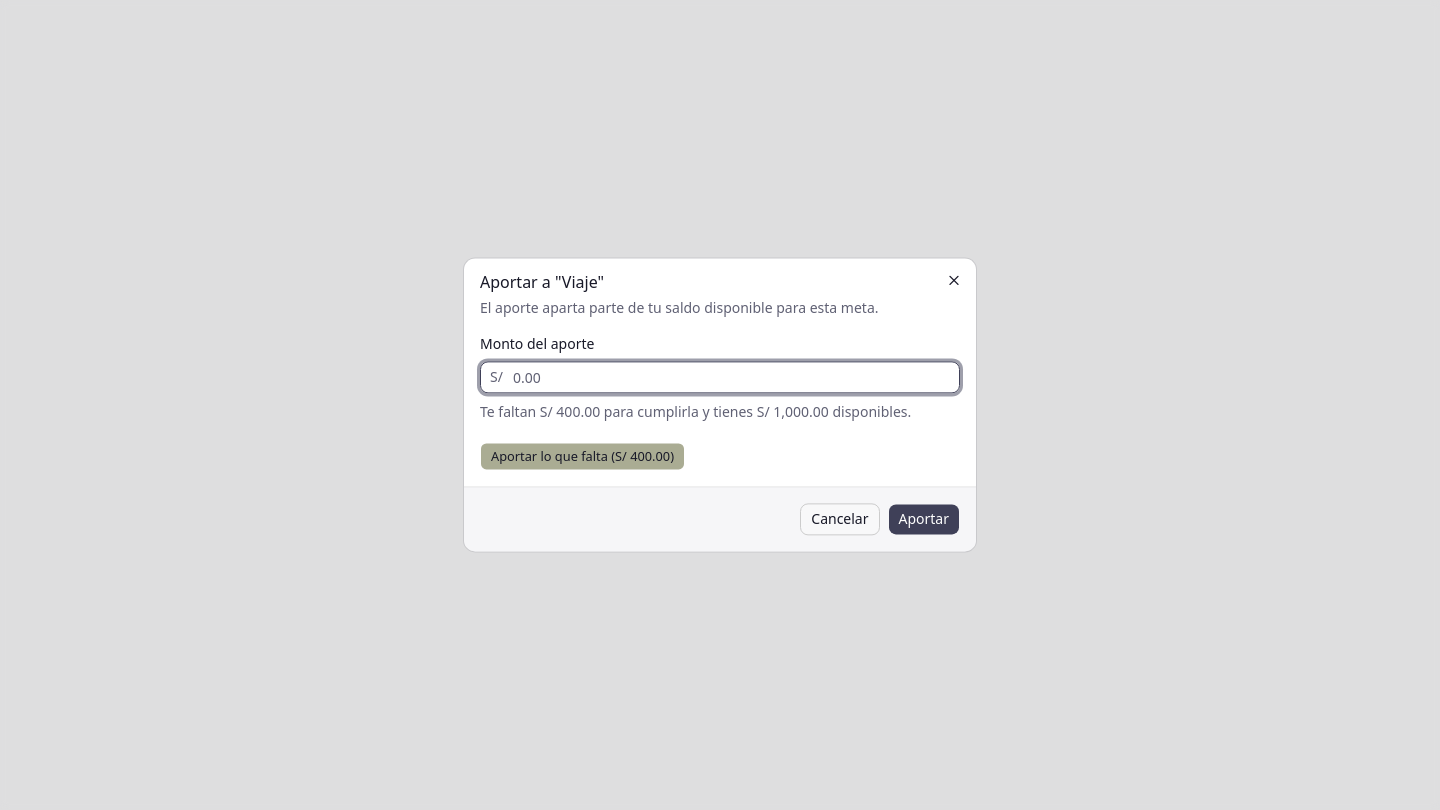
ContributionDialog › no deja aportar mas de lo que falta
The width and height of the screenshot is (1440, 810).
Expected: the text "disponibles" is shown, [829,403,908,422]
Type "500" into the field labelled "Monto del aporte" at (720, 378), box [480,362,960,394]
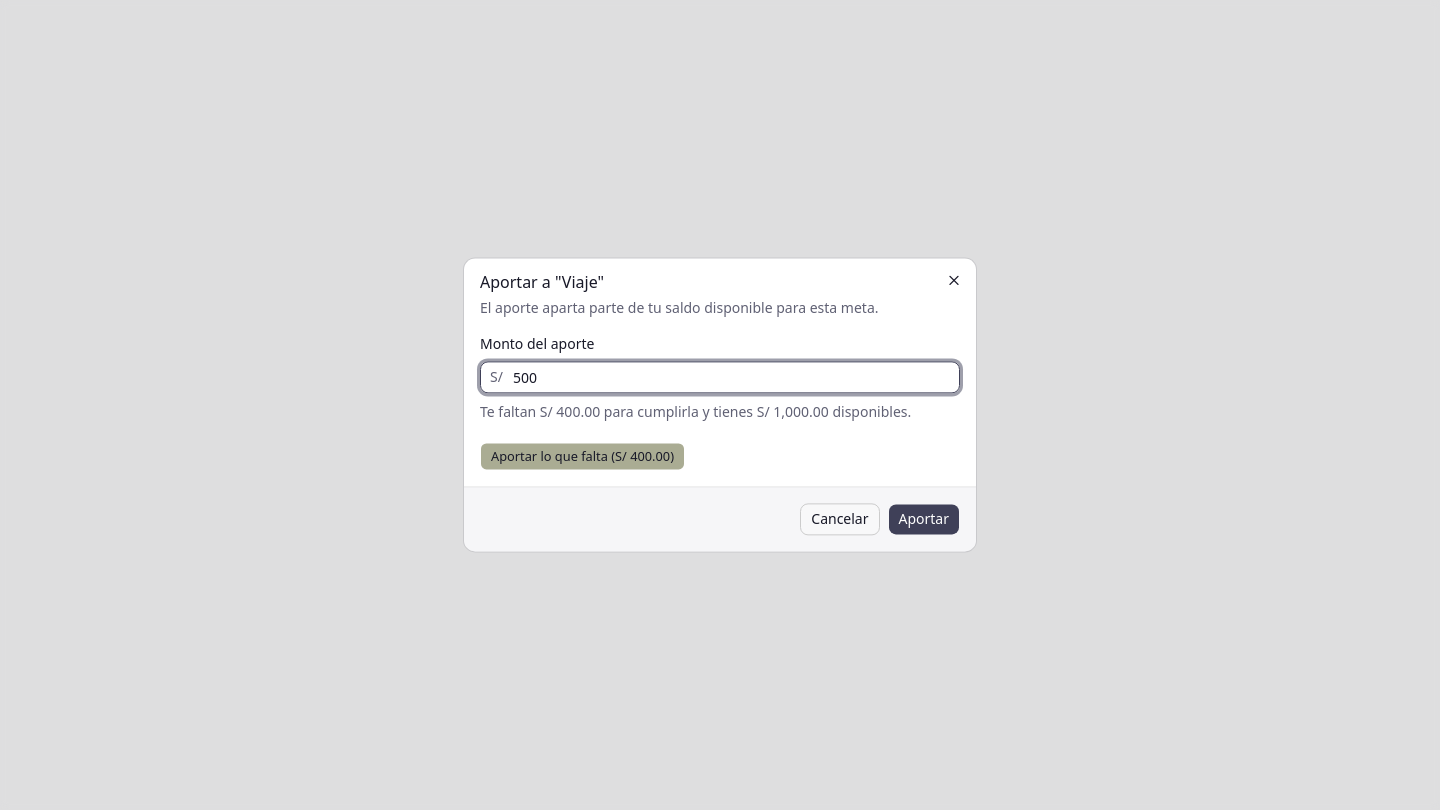
Click the button "Aportar" at (924, 520), box [888,504,960,536]
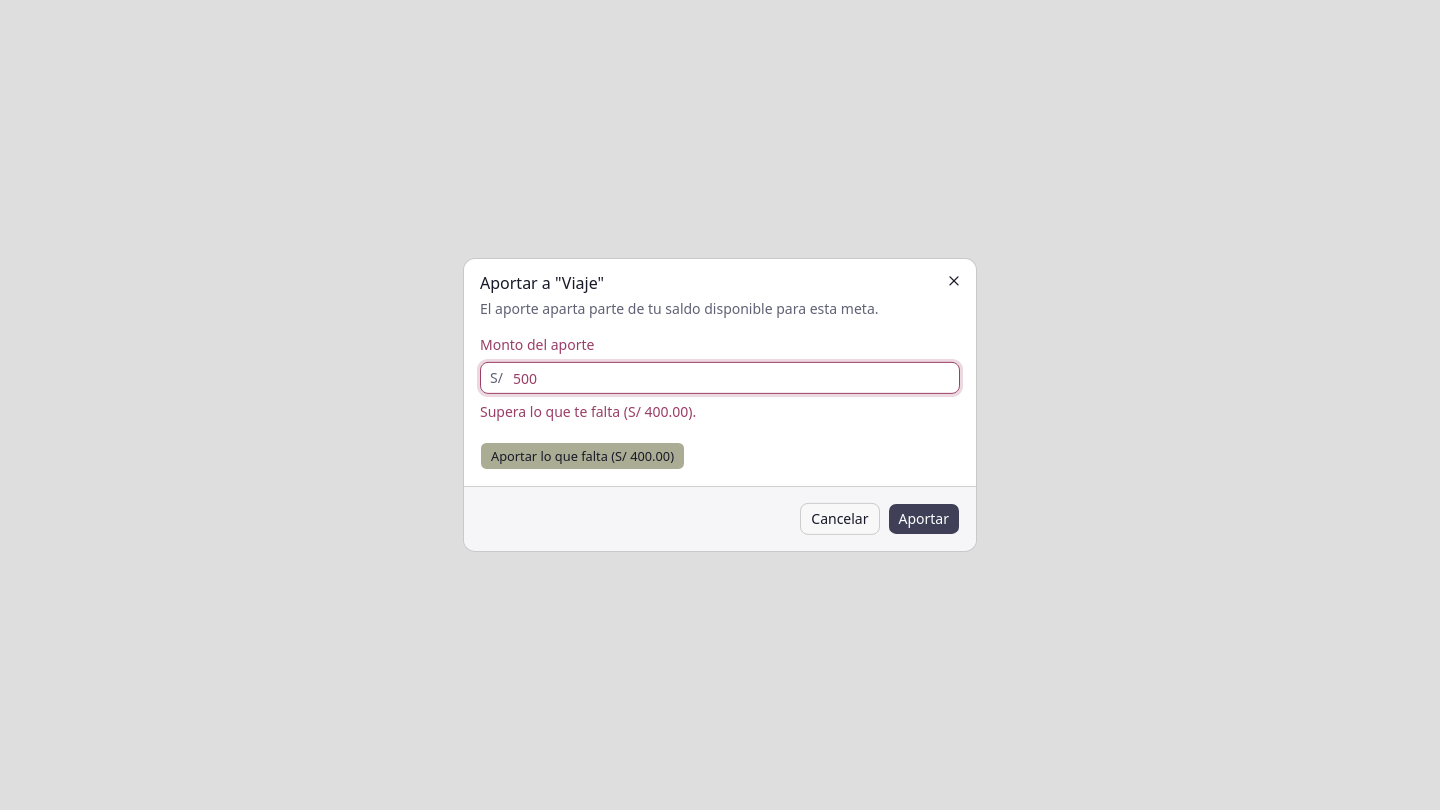
Expected: the text "Supera lo que te falta (S/ 400.00)." is shown, [480,402,696,421]
